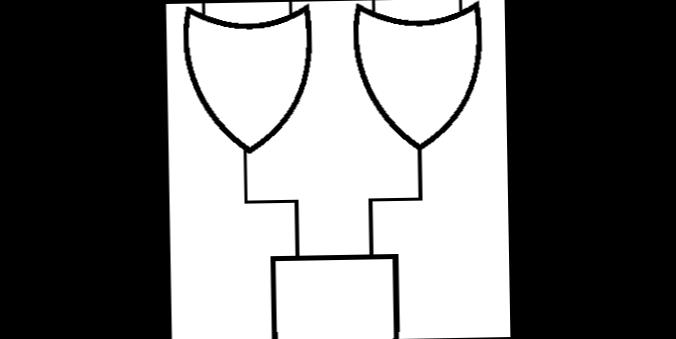nand: (259, 242, 409, 339)
or: (177, 1, 320, 162), (348, 0, 490, 155)
